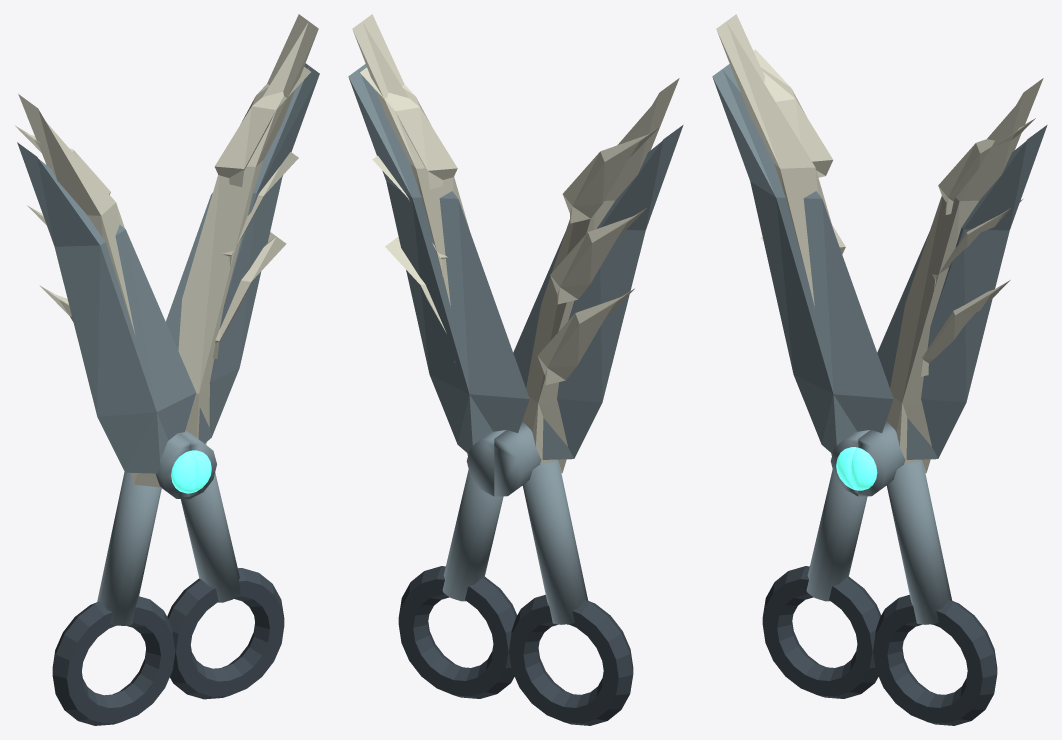
File: YK_04_Mes_Weapon_E02.glb
3 renders of one model, left to right at view 1: azimuth 30°, elevation 25°; view 2: azimuth 150°, elevation 25°; view 3: azimuth 330°, elevation 25°, orthographic.
Parts seen in each view (by area): view 1: SM_YK_04_Mes_Weapon_P00_R, SM_YK_04_Mes_Weapon_P01_L, SM_YK_04_Mes_Weapon_P00_L, SM_YK_04_Mes_Weapon_P01_R, SM_YK_04_Mes_Weapon_P02_R, SM_YK_04_Mes_Weapon_P02_L; view 2: SM_YK_04_Mes_Weapon_P00_L, SM_YK_04_Mes_Weapon_P01_R, SM_YK_04_Mes_Weapon_P00_R, SM_YK_04_Mes_Weapon_P01_L, SM_YK_04_Mes_Weapon_P02_L, SM_YK_04_Mes_Weapon_P02_R; view 3: SM_YK_04_Mes_Weapon_P00_R, SM_YK_04_Mes_Weapon_P01_L, SM_YK_04_Mes_Weapon_P00_L, SM_YK_04_Mes_Weapon_P01_R, SM_YK_04_Mes_Weapon_P02_R, SM_YK_04_Mes_Weapon_P02_L.
Boxes of the visible parts, x1,y1,x2,y2 form: SM_YK_04_Mes_Weapon_P00_R: (167, 14, 318, 699); SM_YK_04_Mes_Weapon_P01_L: (17, 142, 179, 473); SM_YK_04_Mes_Weapon_P00_L: (18, 94, 196, 725); SM_YK_04_Mes_Weapon_P01_R: (166, 63, 319, 443); SM_YK_04_Mes_Weapon_P02_R: (212, 67, 310, 358); SM_YK_04_Mes_Weapon_P02_L: (15, 125, 110, 321); SM_YK_04_Mes_Weapon_P00_L: (494, 78, 679, 725); SM_YK_04_Mes_Weapon_P01_R: (348, 64, 522, 453); SM_YK_04_Mes_Weapon_P00_R: (352, 14, 517, 698); SM_YK_04_Mes_Weapon_P01_L: (504, 125, 683, 459); SM_YK_04_Mes_Weapon_P02_L: (537, 127, 659, 385); SM_YK_04_Mes_Weapon_P02_R: (360, 67, 457, 361); SM_YK_04_Mes_Weapon_P00_R: (851, 78, 1043, 725); SM_YK_04_Mes_Weapon_P01_L: (712, 64, 886, 453); SM_YK_04_Mes_Weapon_P00_L: (716, 14, 881, 698); SM_YK_04_Mes_Weapon_P01_R: (868, 125, 1047, 459); SM_YK_04_Mes_Weapon_P02_R: (920, 118, 1035, 376); SM_YK_04_Mes_Weapon_P02_L: (753, 49, 845, 254).
Bounding box in the file's own units: 0.6 × 1.25 × 0.175.
